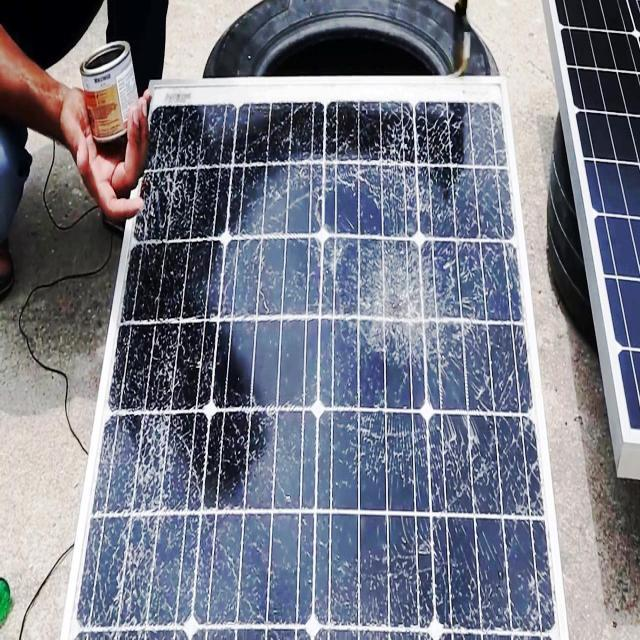faulty: (76, 82, 556, 635)
no faulty: (550, 0, 640, 462)
